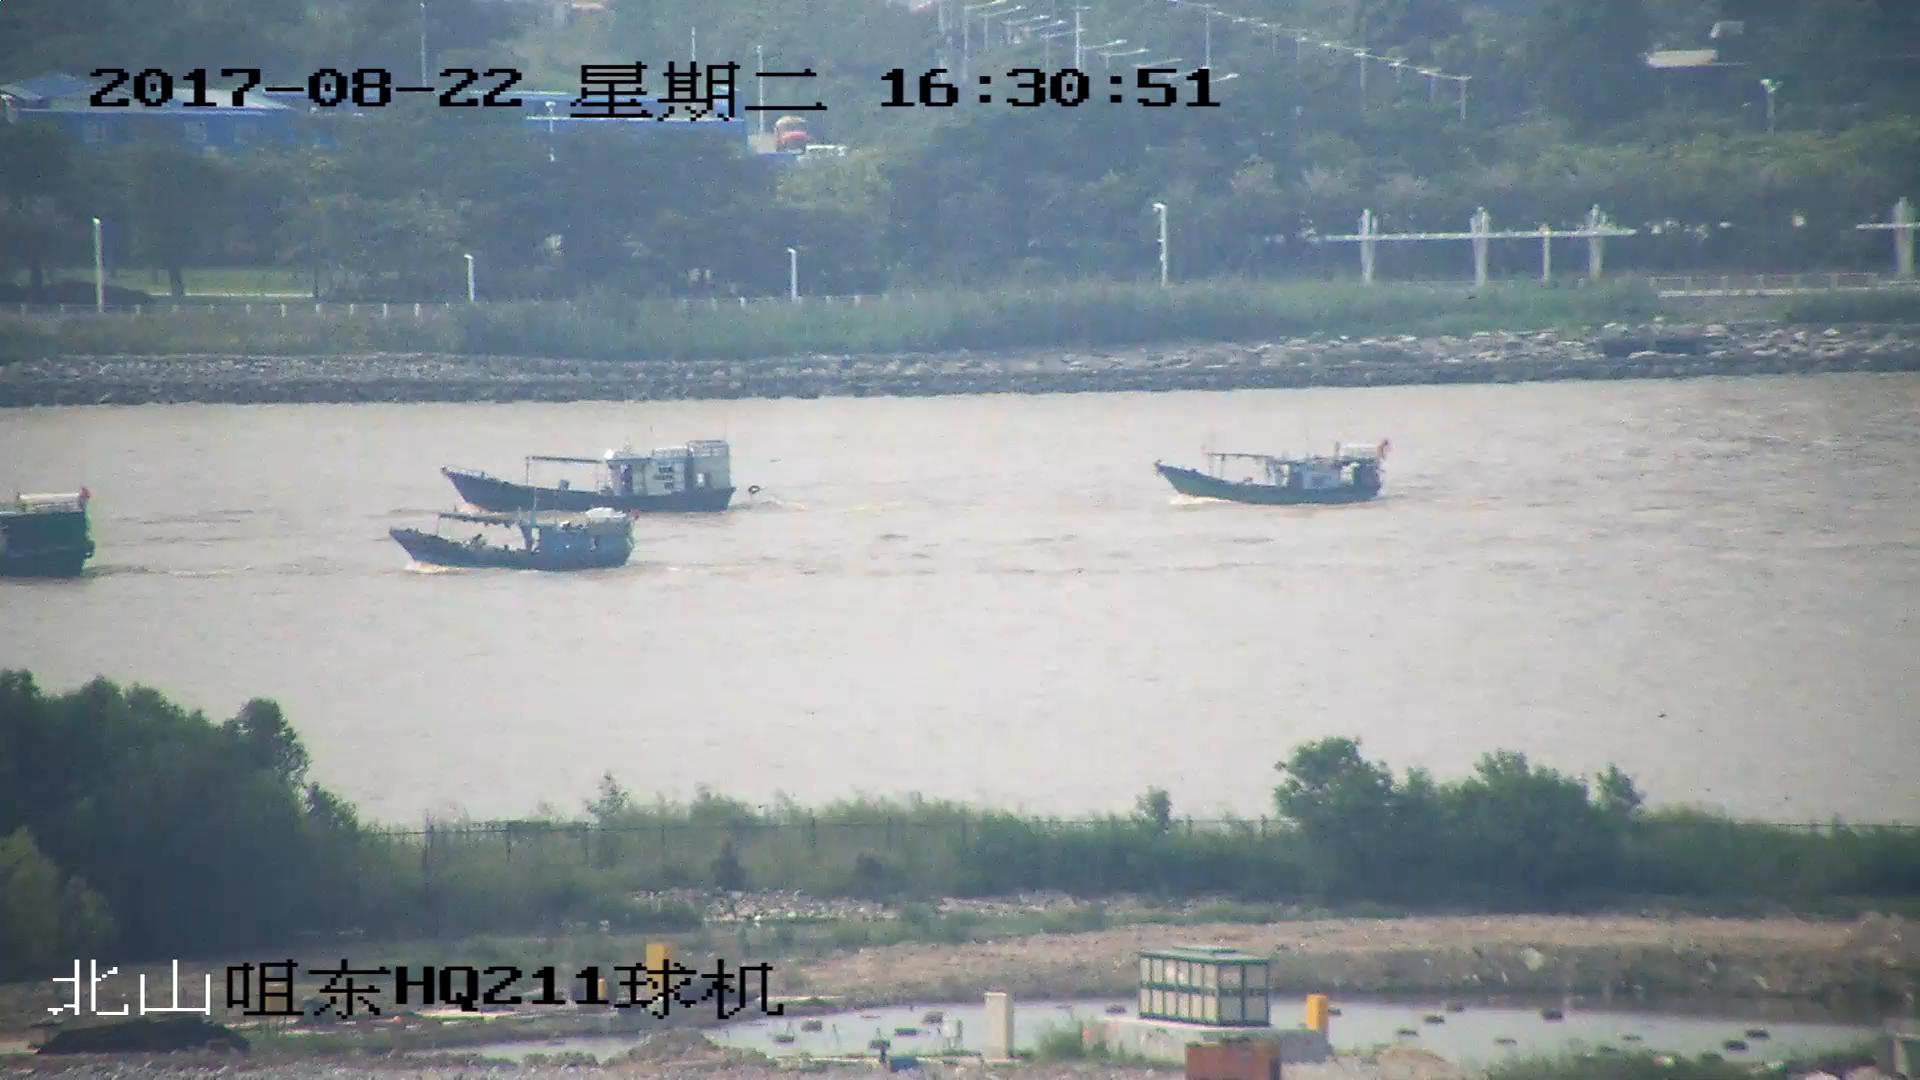fishing boat: (442, 442, 735, 516), (385, 505, 636, 573), (1159, 441, 1387, 505)
